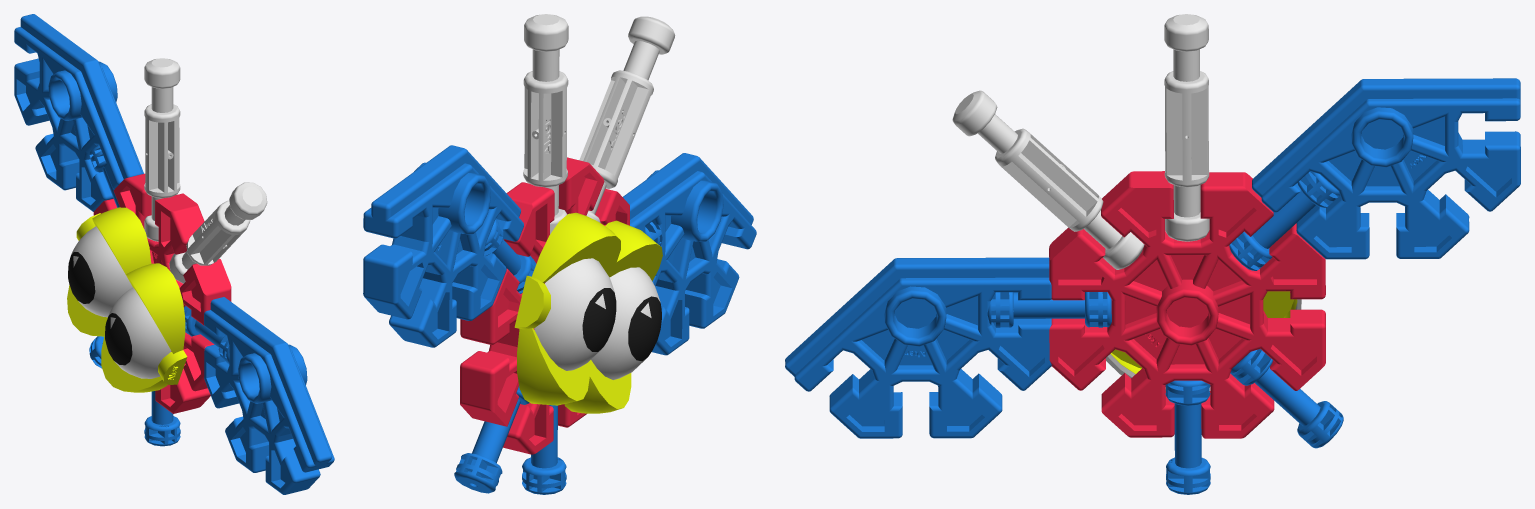
The picture shows the model from 3 angles, left to right: view 1: azimuth 30°, elevation 25°; view 2: azimuth 150°, elevation 25°; view 3: azimuth 270°, elevation 25°; orthographic projection. The views are drawn at different scales.
Visible parts, largest first — view 1: Untitled.072, transform1.002, Untitled.071, Untitled.069, Untitled.058, Untitled.059, Untitled.068, Untitled.063, Untitled.066, Untitled.067, Untitled.060, Untitled.062 (+2 smaller); view 2: transform1.002, Untitled.072, Untitled.071, Untitled.069, Untitled.058, Untitled.059, Untitled.063, Untitled.068, Untitled.067, Untitled.062, Untitled.070, Untitled.066 (+2 smaller); view 3: Untitled.071, transform1.002, Untitled.072, Untitled.059, Untitled.058, Untitled.060, Untitled.070, Untitled.061, Untitled.073, Untitled.062.
Boxes of the visible parts, x1,y1,x2,y2 form: Untitled.072: [204, 297, 334, 494]; transform1.002: [14, 14, 143, 211]; Untitled.071: [93, 173, 231, 413]; Untitled.069: [92, 207, 185, 392]; Untitled.058: [144, 58, 180, 241]; Untitled.059: [169, 182, 267, 283]; Untitled.068: [108, 287, 171, 378]; Untitled.063: [71, 226, 132, 317]; Untitled.066: [67, 285, 162, 391]; Untitled.067: [68, 252, 132, 365]; Untitled.060: [144, 391, 180, 446]; Untitled.062: [76, 213, 187, 384]; transform1.002: [363, 145, 523, 347]; Untitled.072: [623, 153, 756, 355]; Untitled.071: [460, 157, 629, 454]; Untitled.069: [514, 212, 659, 413]; Untitled.058: [523, 14, 568, 234]; Untitled.059: [579, 16, 675, 222]; Untitled.063: [534, 258, 614, 370]; Untitled.068: [591, 267, 660, 379]; Untitled.067: [582, 288, 661, 361]; Untitled.062: [515, 236, 662, 329]; Untitled.070: [454, 386, 529, 493]; Untitled.066: [532, 328, 631, 408]; Untitled.071: [1049, 171, 1325, 438]; transform1.002: [1252, 78, 1520, 259]; Untitled.072: [785, 257, 1051, 438]; Untitled.059: [952, 90, 1144, 269]; Untitled.058: [1164, 14, 1209, 241]; Untitled.060: [1165, 380, 1210, 494]; Untitled.070: [1230, 349, 1343, 448]; Untitled.061: [1229, 171, 1340, 270]; Untitled.073: [987, 292, 1111, 327]; Untitled.062: [1110, 291, 1297, 373].
Size of the model in its own units: 0.3002 by 1.16 by 1.65.
